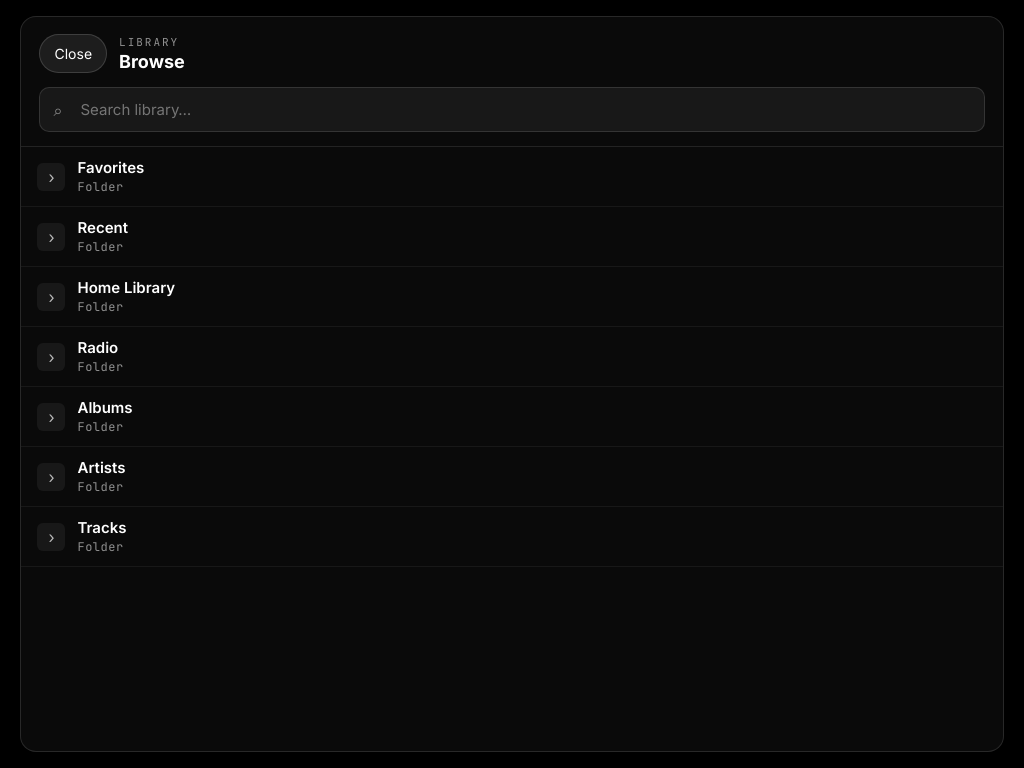
Test: LibraryDrawer · Home Library › a failed Home Library search reports an error, not 'No matches'
Note: No route for /api/library/search → 404.
Click the text "Home Library".
click(126, 288)  # box [78,278,175,297]
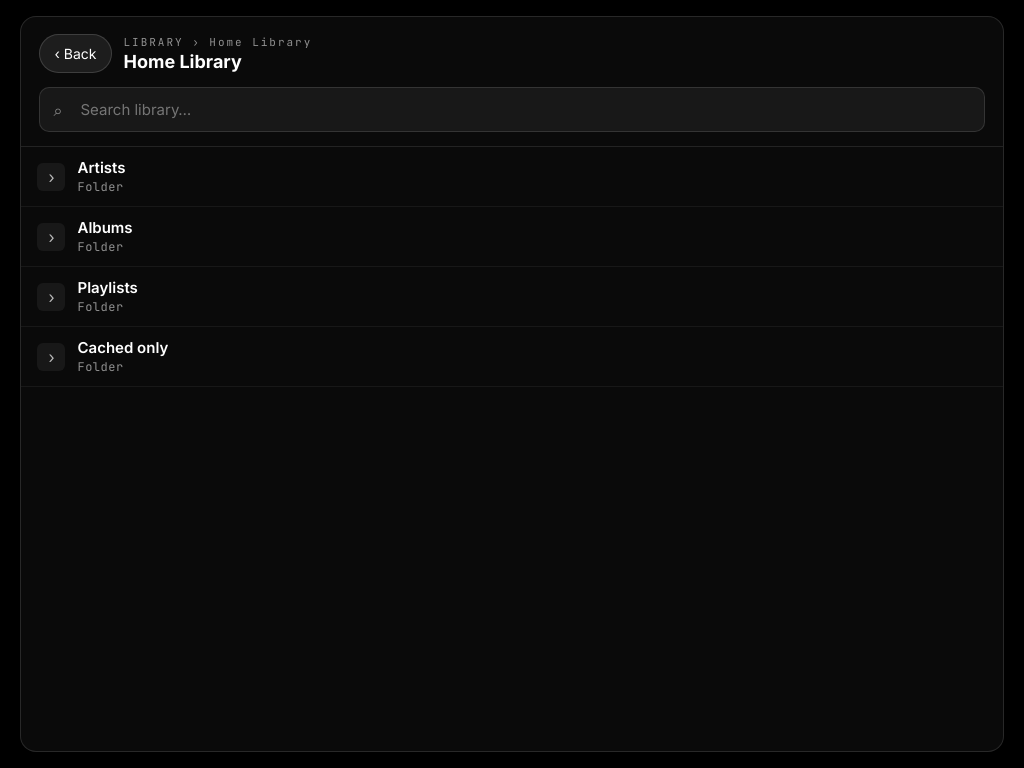
Expected: the text "Artists" is shown, [78,158,126,177]
Type "zzz" into the search field with placeholder "Search library…".
click(512, 110); type("zzz")  # box [40,87,984,132]
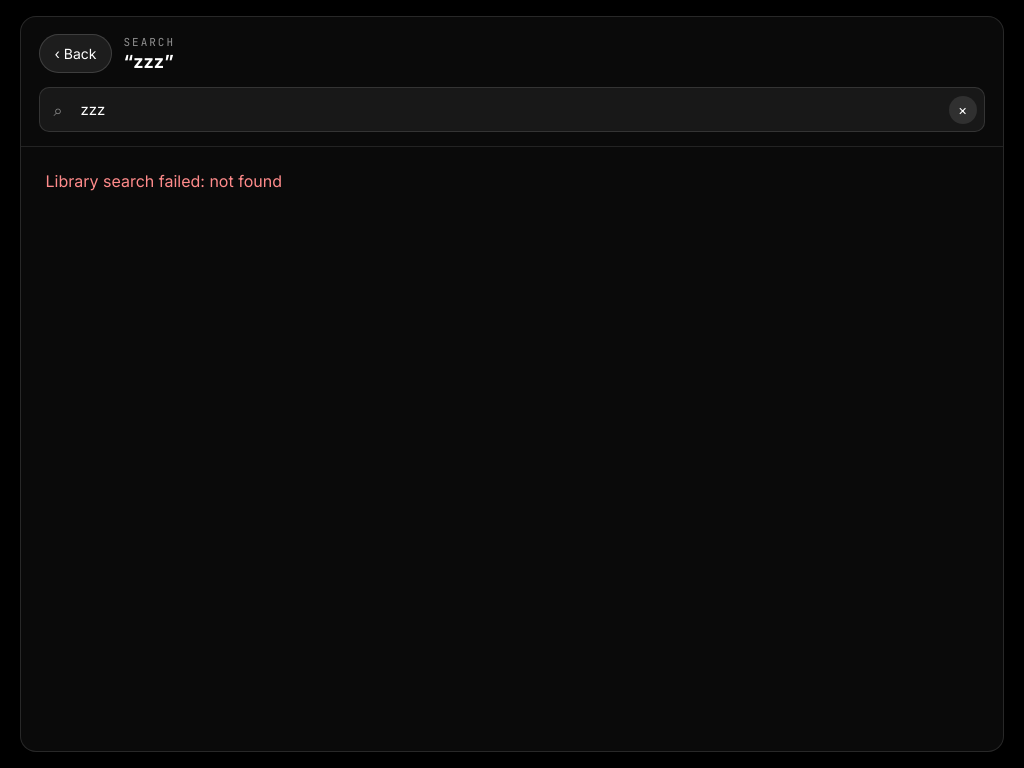
Now the text "Library search failed: not found" is shown, box [46,171,282,191]
